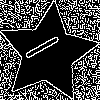I: (23, 28, 70, 63)
